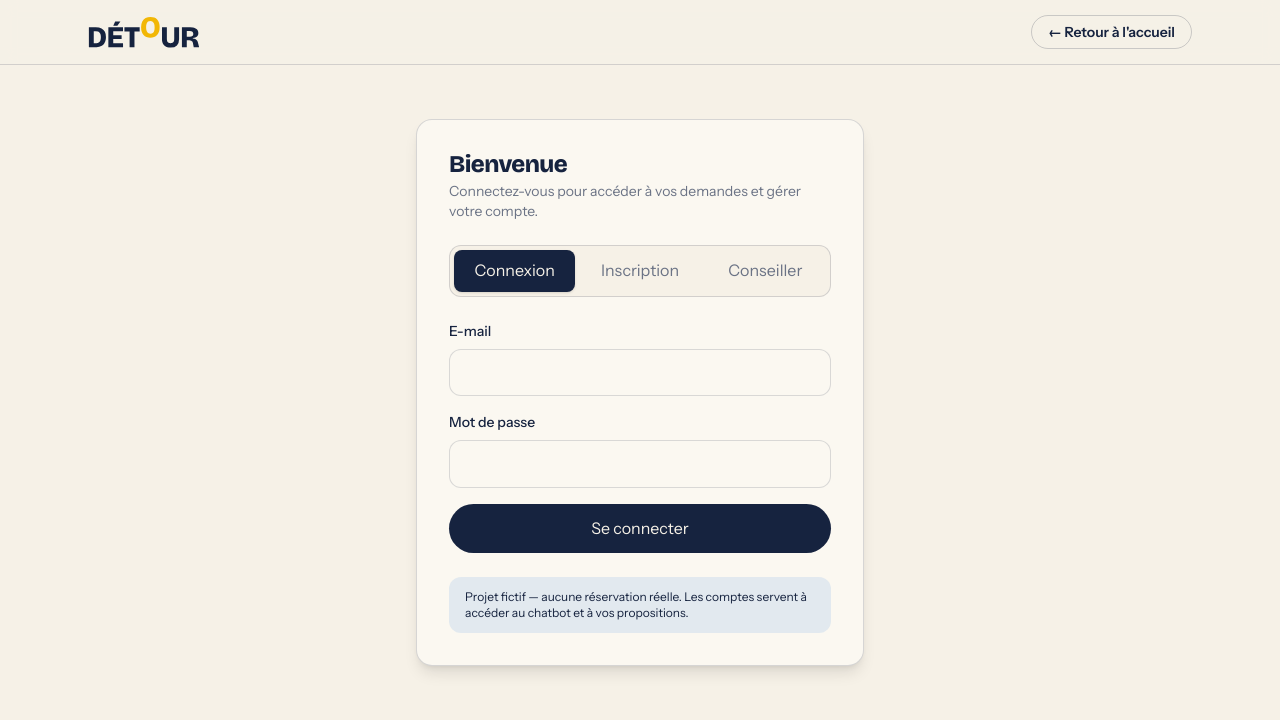
Scenario: Login — 2026 brand & accessibility (#126) › exposes all login fields with accessible labels
This screenshot has width=1280, height=720.
Check: the field labelled "E-mail" is shown, box [449,348,831,396]
Check: the password field labelled "Mot de passe" is shown, box [449,440,831,488]
Click the tab "Inscription" at point(640, 271), box [579,250,701,292]
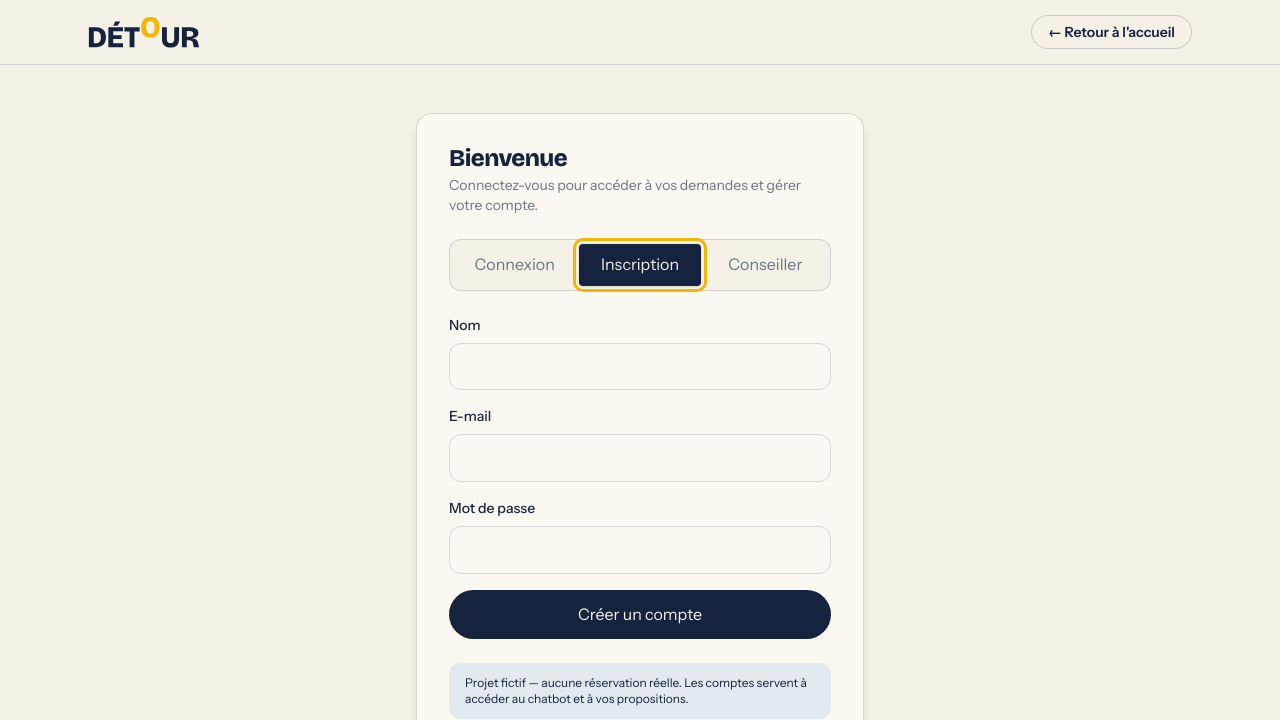
Check: the field labelled "Nom" is shown, box [449,343,831,390]
